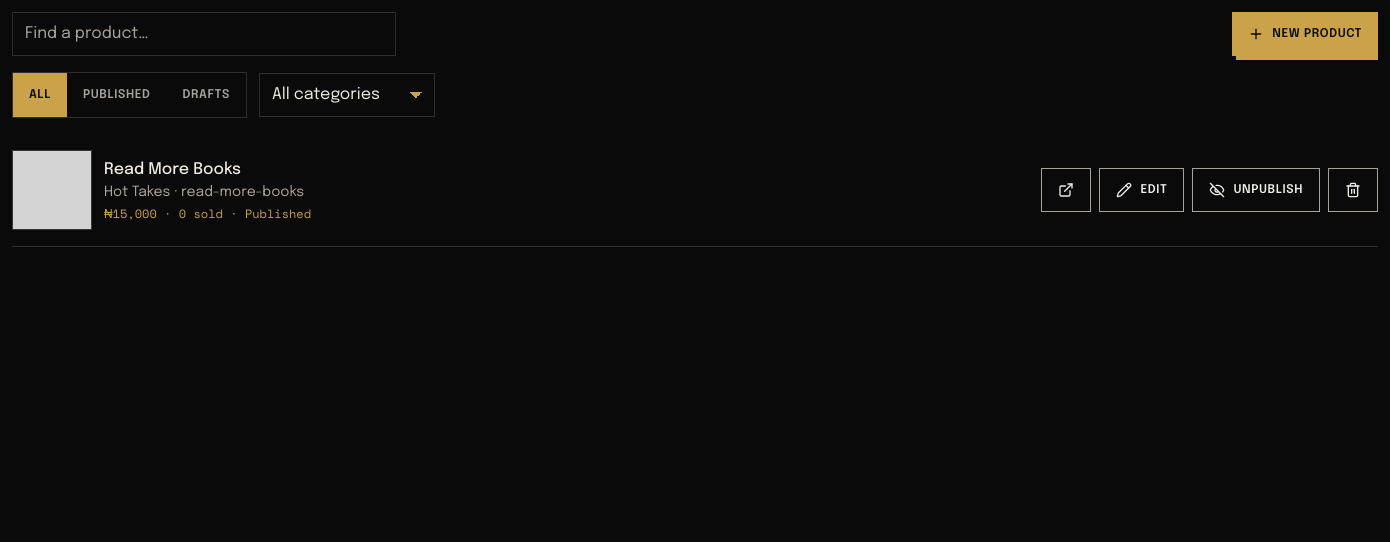
Scenario: AdminProducts › requires confirmation before deleting a product
Step 1. Click the button named "Delete Read More Books" → x=1353, y=190, box left=1328, top=168, right=1378, bottom=212
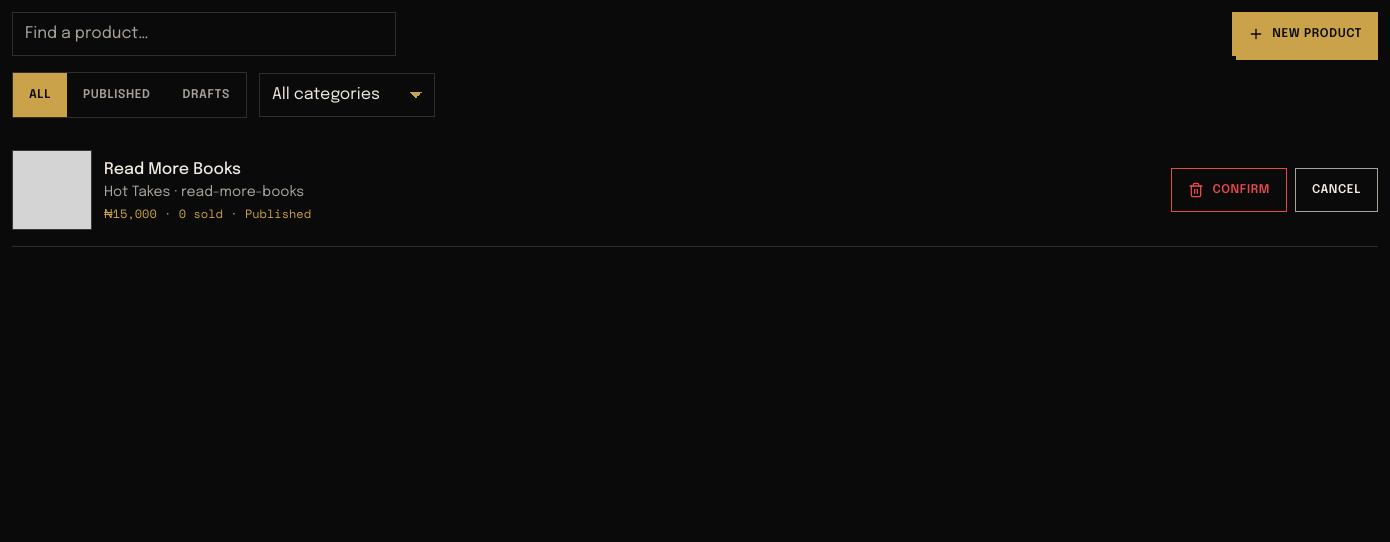
Step 2. Click the button "Confirm" → x=1229, y=190, box left=1171, top=168, right=1287, bottom=212
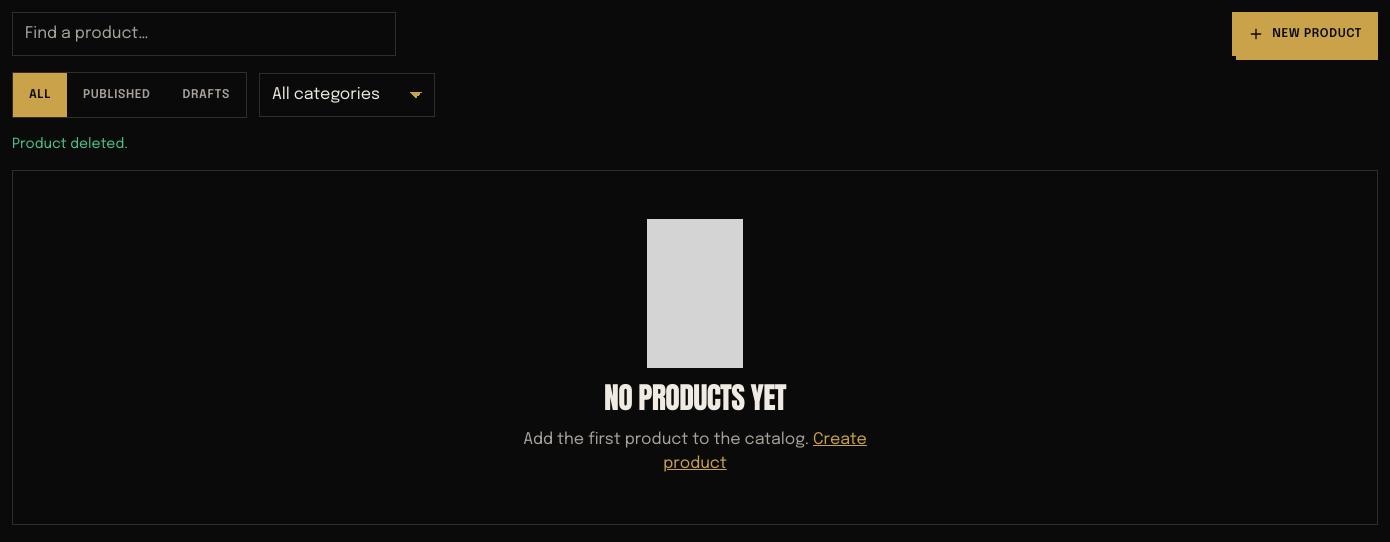
Now the text "No products yet" is shown, box left=604, top=380, right=786, bottom=416
